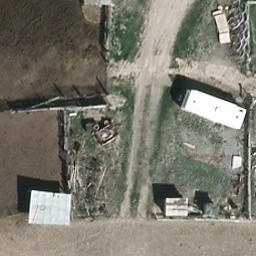camping car: (175, 89, 248, 131)
car: (212, 12, 233, 44)
